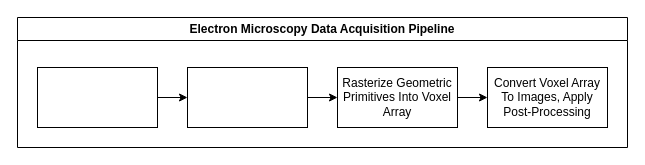
This 645x165 diagram has some shape labels left out. The centre of each missing label's shape, as x and y in pixels:
"Divide Requested Volume Into Subregions" goes at point (247, 97).
"Identify Resource Constraints" goes at point (97, 97).
